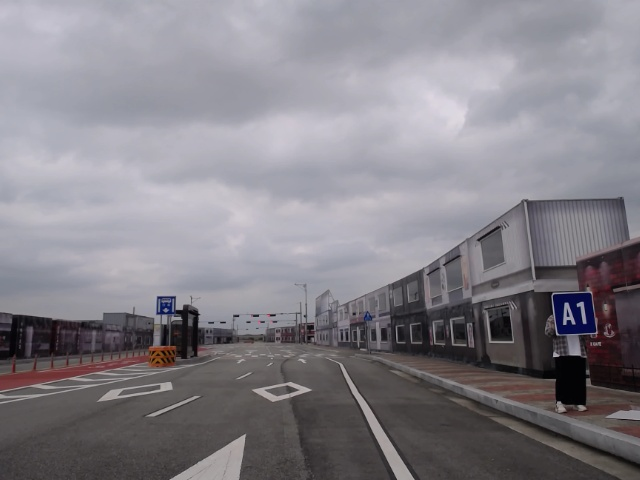delivery_a1: (552, 292, 598, 335)
